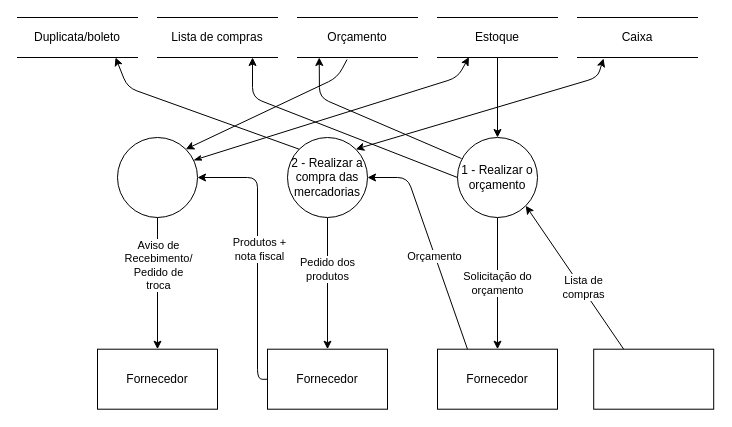
Some shapes in this 732 by 427 pixel diagram are drawn without their labels. Each missing label, with the centre of its shape:
3 - Verificar produtos comprados: pixel 157 177
Cozinheiro: pixel 653 378
